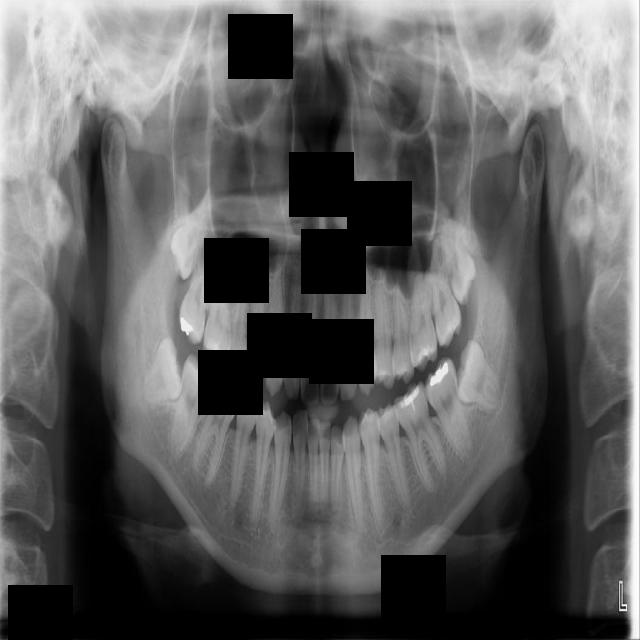3M ESPE Implant: (161, 199, 215, 283)
52: (385, 379, 442, 434), (413, 354, 468, 411), (196, 373, 249, 426), (178, 287, 208, 344)
73: (560, 530, 566, 552)
BioHorizons Implant: (423, 231, 465, 350)
BioLife Implant: (435, 209, 483, 306)
Biomet 3i Implant: (449, 338, 516, 413)
Blue Sky Bio Implant: (417, 354, 477, 470)
Caries: (175, 229, 219, 346)
Implant: (164, 352, 218, 465)
Keystone Dental Implant: (135, 334, 200, 413)
